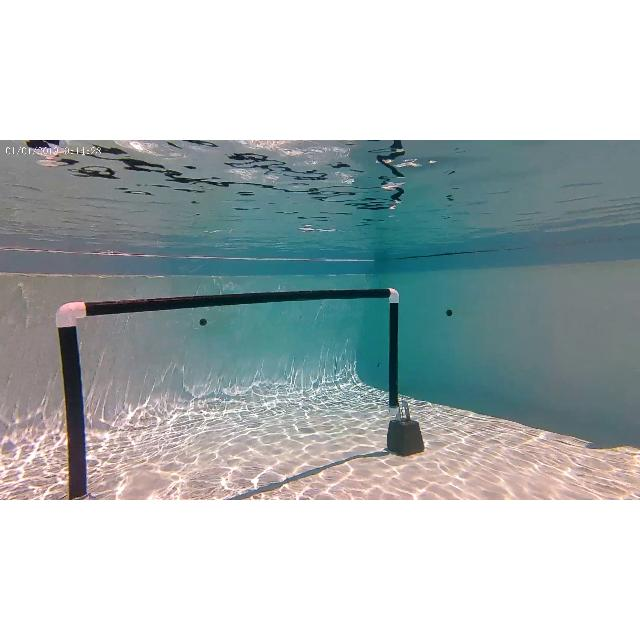prequal gate: (54, 287, 402, 497)
prequal gate leg l: (47, 300, 101, 500)
prequal gate leg r: (380, 285, 426, 457)
